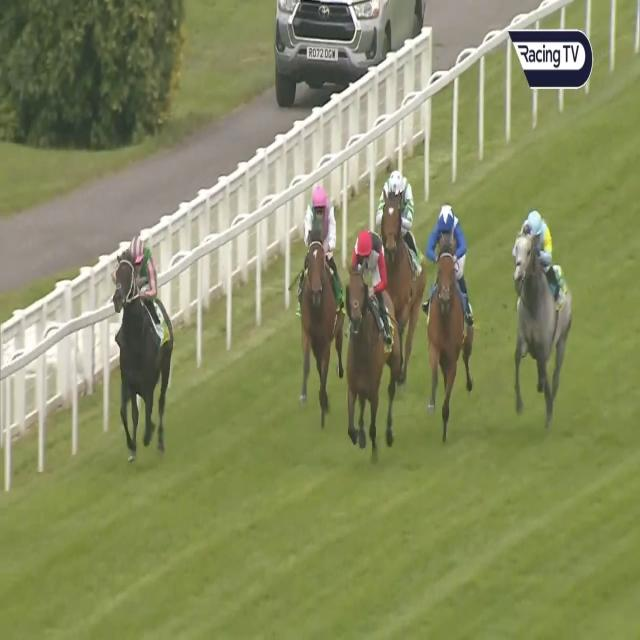horses-racing: (112, 234, 180, 443), (510, 204, 574, 414), (343, 229, 402, 446), (376, 163, 429, 382), (427, 201, 472, 426), (302, 188, 344, 404)
